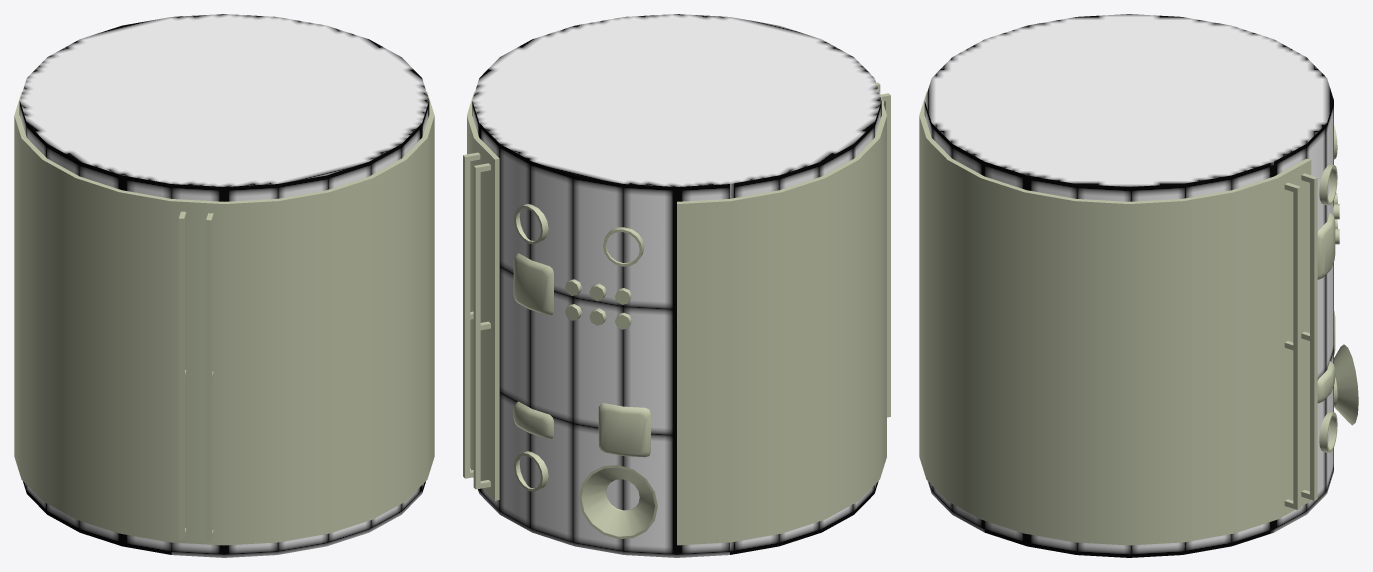
File: tucana_crew_s1p5_1_interior.obj
The picture shows the model from 3 angles, left to right: view 1: azimuth 30°, elevation 25°; view 2: azimuth 150°, elevation 25°; view 3: azimuth 270°, elevation 25°; orthographic projection.
Parts seen in each view (by area): view 1: tucana_crew_s1p5_1_mask, tucana_crew_s1p5_1_interior; view 2: tucana_crew_s1p5_1_interior, tucana_crew_s1p5_1_mask; view 3: tucana_crew_s1p5_1_mask, tucana_crew_s1p5_1_interior.
Boxes of the visible parts, x1,y1,x2,y2 form: tucana_crew_s1p5_1_mask: (14,91,434,545); tucana_crew_s1p5_1_interior: (19,14,429,557); tucana_crew_s1p5_1_interior: (472,14,881,557); tucana_crew_s1p5_1_mask: (463,82,890,545); tucana_crew_s1p5_1_mask: (919,91,1358,545); tucana_crew_s1p5_1_interior: (924,14,1333,557).
Bounding box in the file's own units: 1.92 × 1.88 × 2.01.
Materials: 2 (1 with a texture image).
